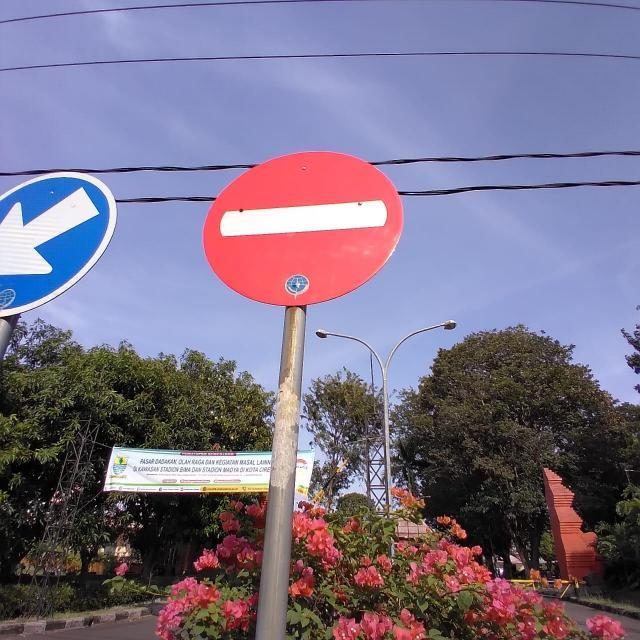traffic sign: (203, 149, 403, 303)
